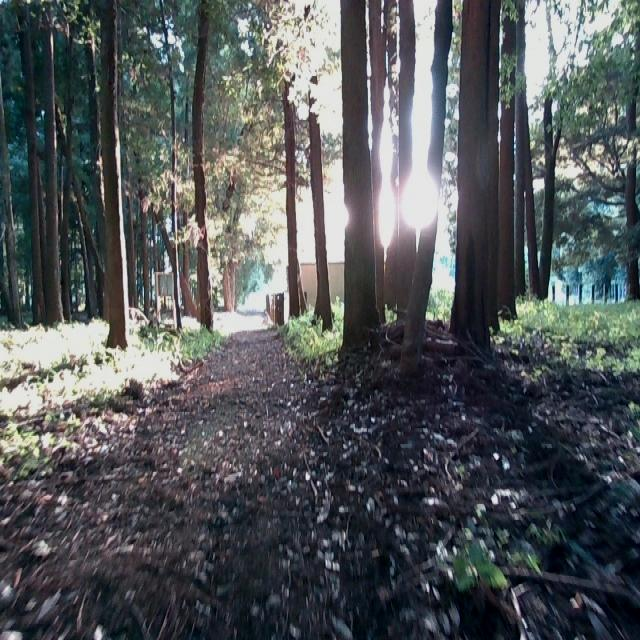tree: (16, 0, 71, 327), (339, 0, 380, 368), (98, 0, 135, 349), (299, 0, 335, 333), (189, 0, 220, 339), (393, 0, 418, 352), (277, 0, 304, 323)
